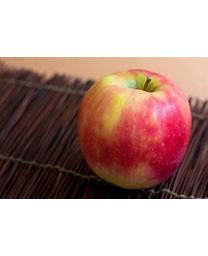apple: (76, 68, 192, 189)
